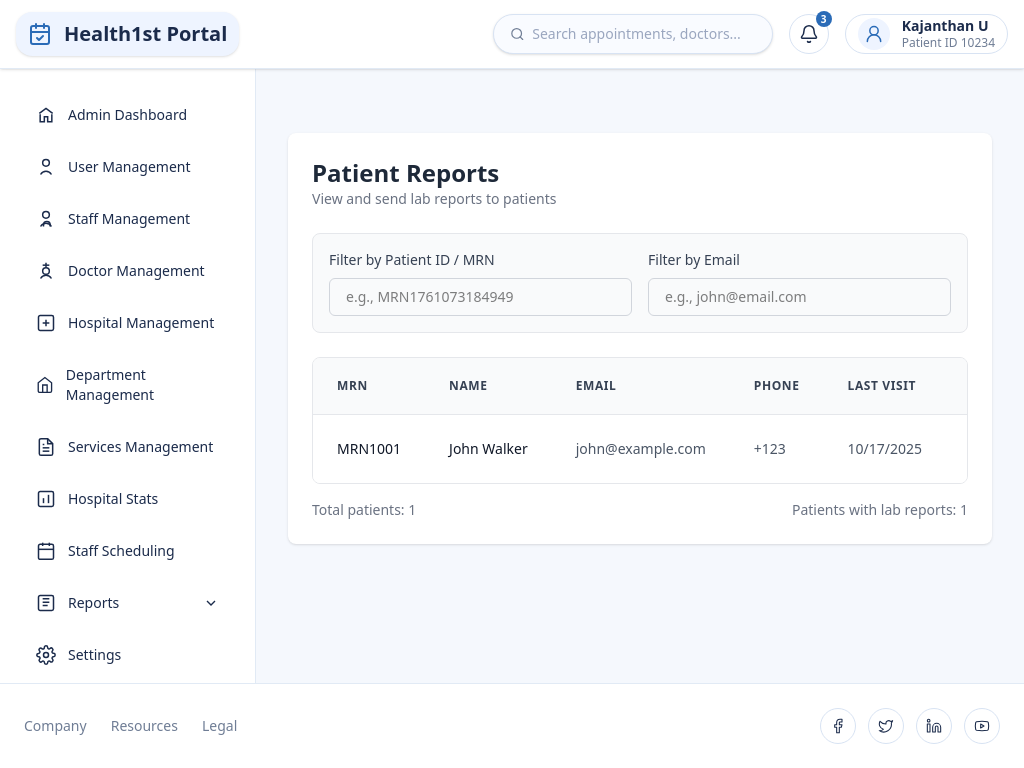
PatientReports › filters can produce no results and show empty-table message
Note: Apply a filter that matches nothing
Type "no-match@example.com" into the field with placeholder "e.g., john@email.com" at (800, 297), box [648, 278, 951, 316]
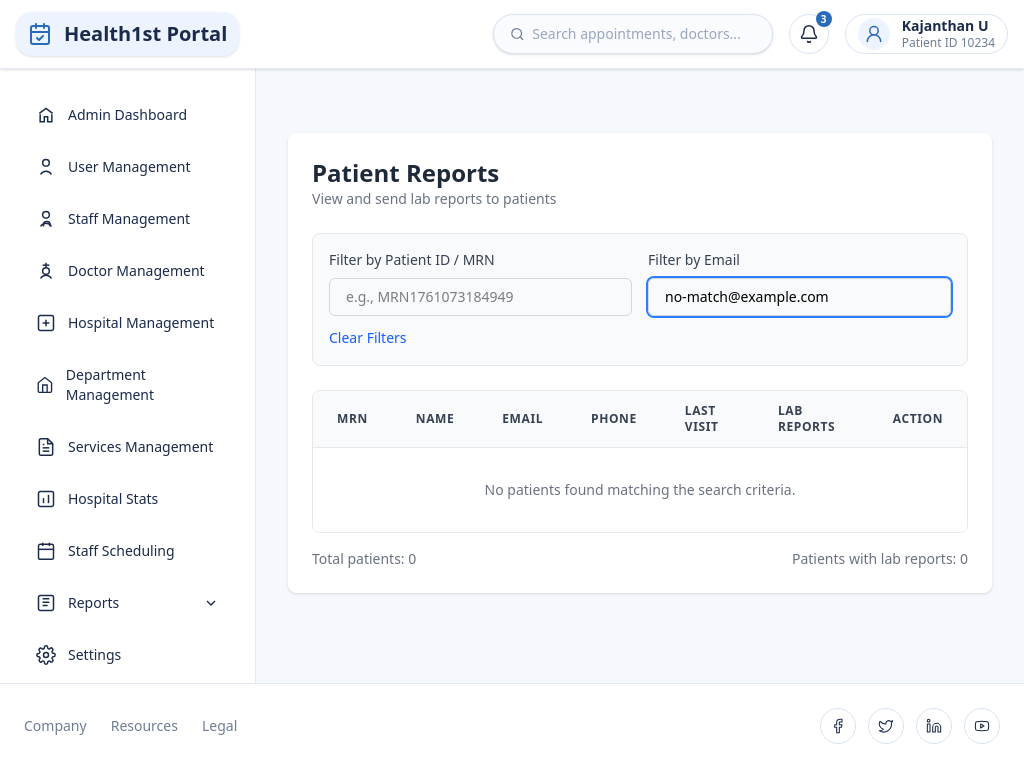
Now the text "No patients found matching the search criteria." is shown, box [313, 448, 967, 532]
